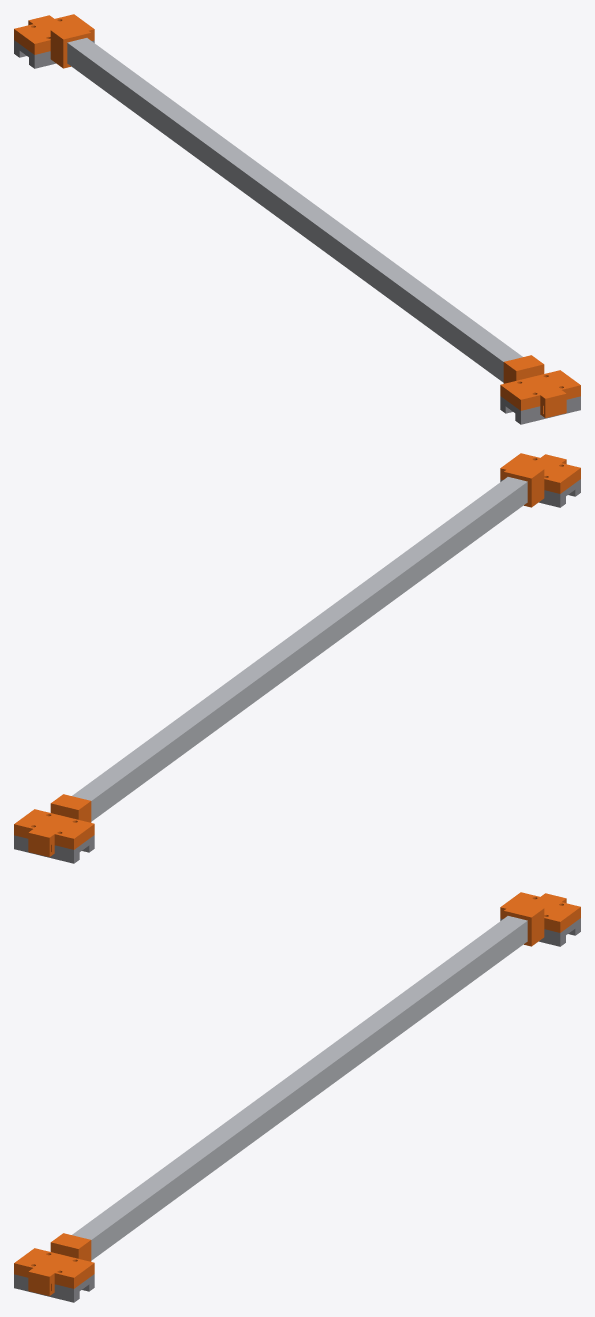
The model's file is pusher_xn.glb.
3 renders of one model, top to bottom at view 1: azimuth 30°, elevation 25°; view 2: azimuth 150°, elevation 25°; view 3: azimuth 330°, elevation 25°, orthographic.
Visible parts, largest first — view 1: dock_bar_x-1, dock_bar_bracket_low_inner_x-1-1, dock_bar_bracket_low_inner_x-1+1, dockREF_carriage_x-1-1; view 2: dock_bar_x-1, dock_bar_bracket_low_inner_x-1+1, dock_bar_bracket_low_inner_x-1-1, dockREF_carriage_x-1+1; view 3: dock_bar_x-1, dock_bar_bracket_low_inner_x-1-1, dock_bar_bracket_low_inner_x-1+1, dockREF_carriage_x-1-1.
Boxes of the visible parts, box(x1,y1,x2,y2) form: dock_bar_x-1: box(67, 38, 522, 382); dock_bar_bracket_low_inner_x-1-1: box(500, 355, 580, 417); dock_bar_bracket_low_inner_x-1+1: box(14, 14, 94, 68); dockREF_carriage_x-1-1: box(500, 396, 580, 424); dock_bar_x-1: box(72, 477, 527, 821); dock_bar_bracket_low_inner_x-1+1: box(14, 794, 94, 856); dock_bar_bracket_low_inner_x-1-1: box(500, 453, 580, 507); dockREF_carriage_x-1+1: box(14, 835, 94, 863); dock_bar_x-1: box(72, 916, 527, 1260); dock_bar_bracket_low_inner_x-1-1: box(14, 1233, 94, 1295); dock_bar_bracket_low_inner_x-1+1: box(500, 892, 580, 946); dockREF_carriage_x-1-1: box(14, 1274, 94, 1302).
Size of the model in its own units: 45.4 by 25 by 676.
